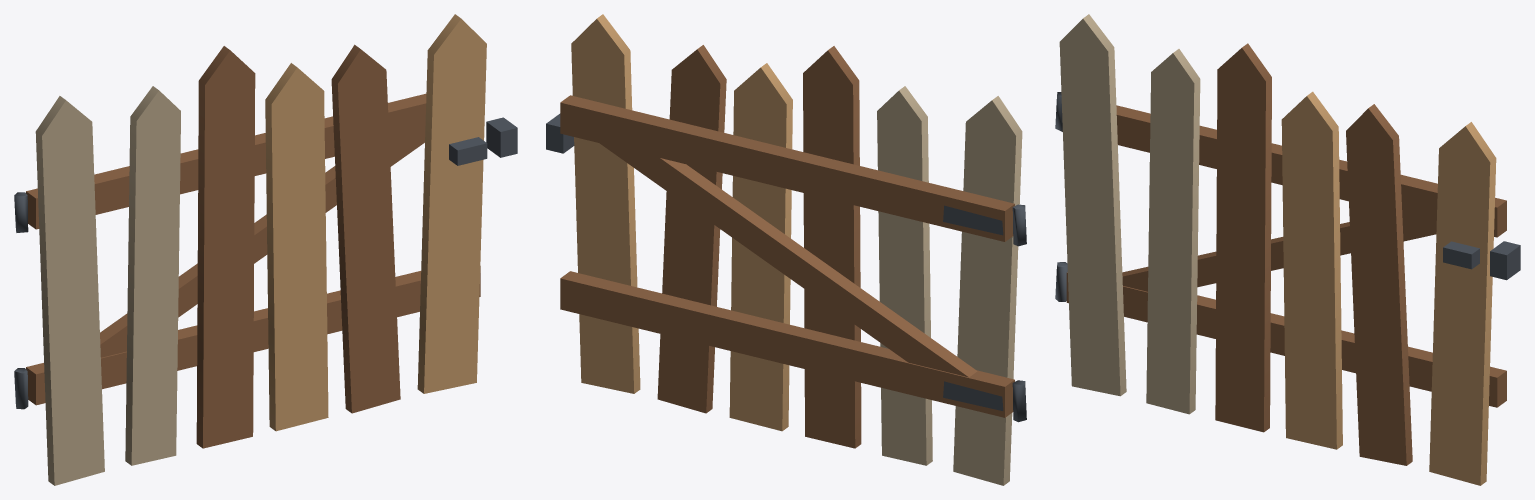
File: fence-picket-gate.lod1.glb
3 views of the same model, side by side, from view 1: azimuth 30°, elevation 25°; view 2: azimuth 150°, elevation 25°; view 3: azimuth 330°, elevation 25° (orthographic). The views are drawn at different scales.
Parts seen in each view (by area): view 1: fence-picket-gate_lod1; view 2: fence-picket-gate_lod1; view 3: fence-picket-gate_lod1.
Boxes of the visible parts, left/top/right/bottom form: fence-picket-gate_lod1: left=14, top=14, right=517, bottom=485; fence-picket-gate_lod1: left=546, top=14, right=1026, bottom=485; fence-picket-gate_lod1: left=1055, top=14, right=1520, bottom=485.
Size of the model in its own units: 0.9795 by 0.76 by 0.102.
